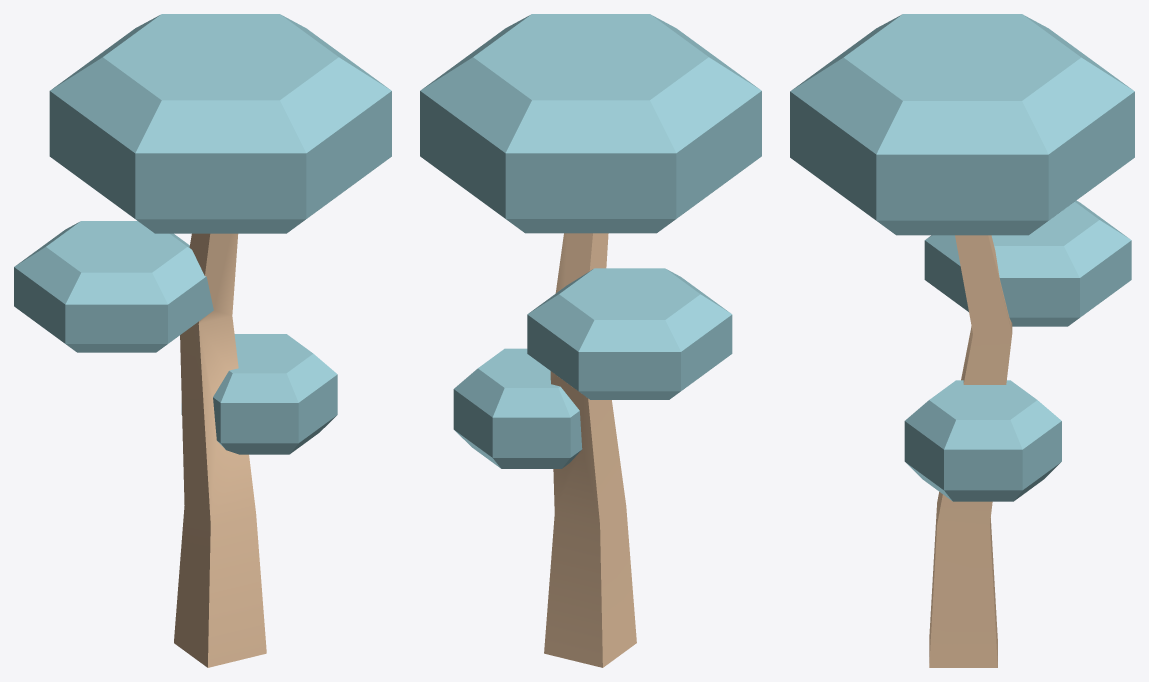
Rendered from tree_plateau_dark.glb.
3 renders of one model, left to right at view 1: azimuth 30°, elevation 25°; view 2: azimuth 150°, elevation 25°; view 3: azimuth 270°, elevation 25°, orthographic.
Parts seen in each view (by area): view 1: tree_plateau_dark; view 2: tree_plateau_dark; view 3: tree_plateau_dark.
Part boxes in pixels (left/top/right/bottom): tree_plateau_dark: left=14, top=14, right=391, bottom=667; tree_plateau_dark: left=420, top=14, right=761, bottom=667; tree_plateau_dark: left=790, top=14, right=1134, bottom=667.
Size of the model in its own units: 0.6117 by 1.25 by 0.6549.
